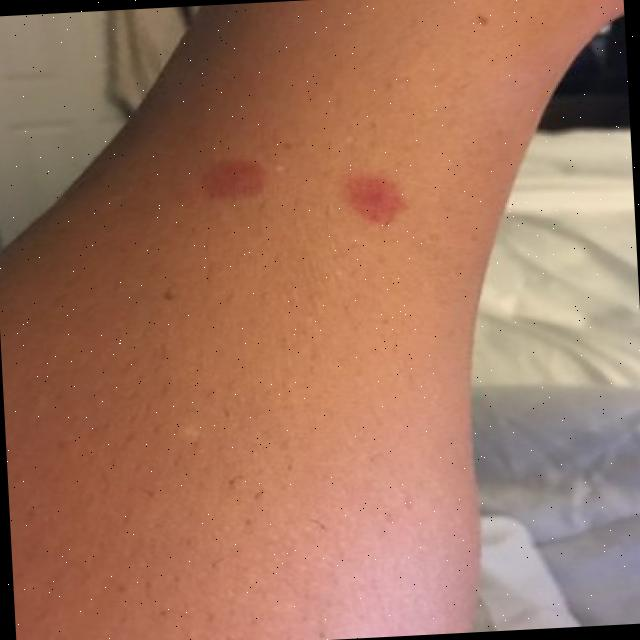kene: (336, 167, 413, 230), (195, 152, 270, 207)
